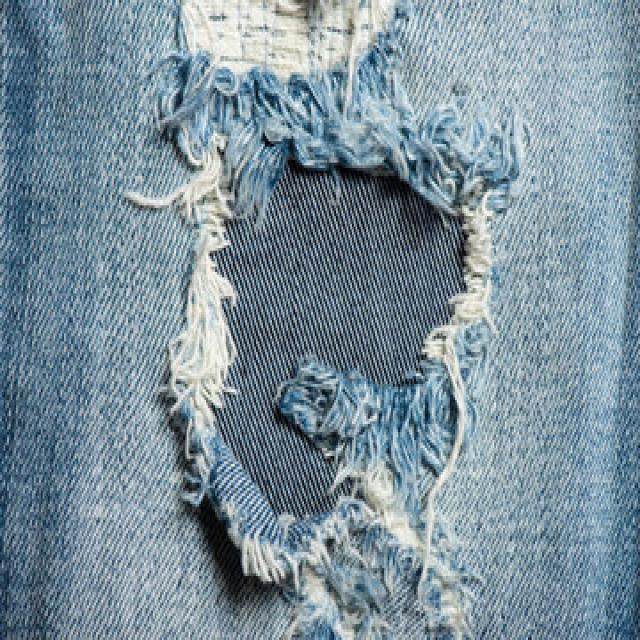Hole: (128, 0, 527, 640)
